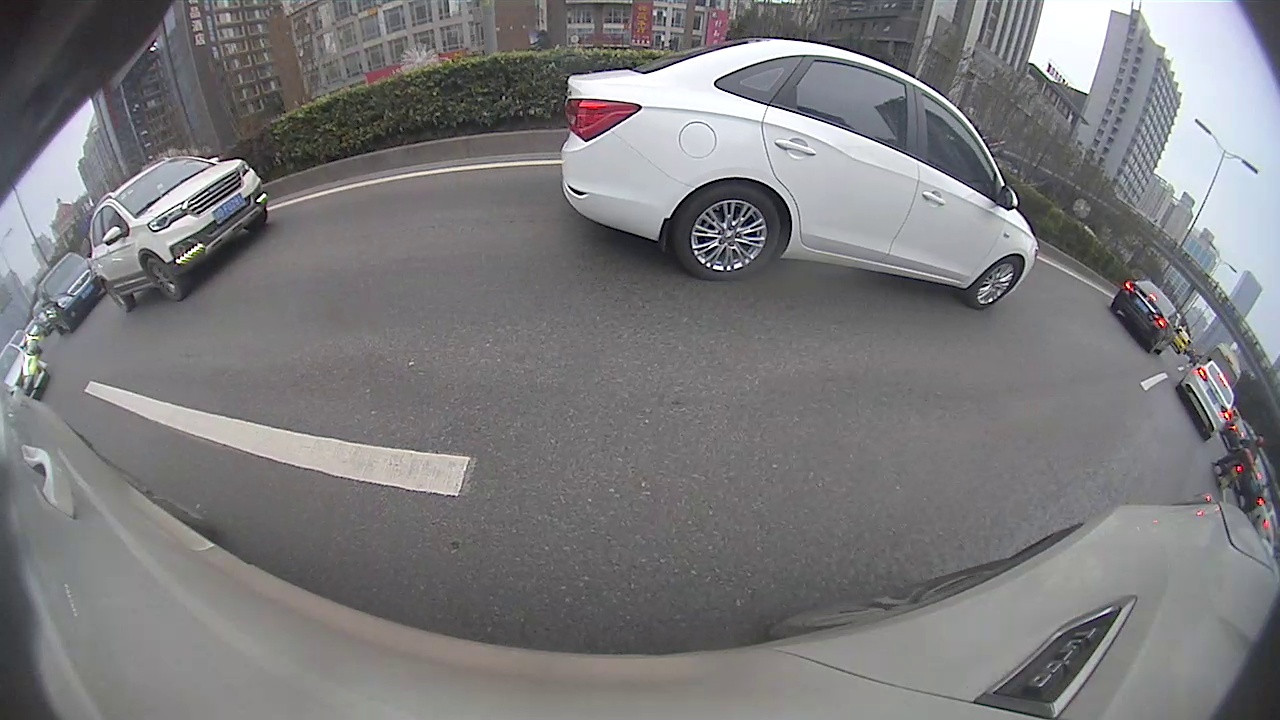bus: (916, 150, 1131, 257), (295, 166, 440, 208)
car: (1044, 233, 1257, 386), (174, 203, 321, 298), (268, 180, 424, 253), (800, 162, 880, 204), (876, 172, 932, 212), (710, 159, 755, 187), (754, 162, 784, 186), (620, 161, 646, 181)
front: (1055, 254, 1086, 290), (931, 197, 949, 221)
rear: (1173, 325, 1209, 373), (1023, 223, 1047, 252), (887, 195, 901, 213)
